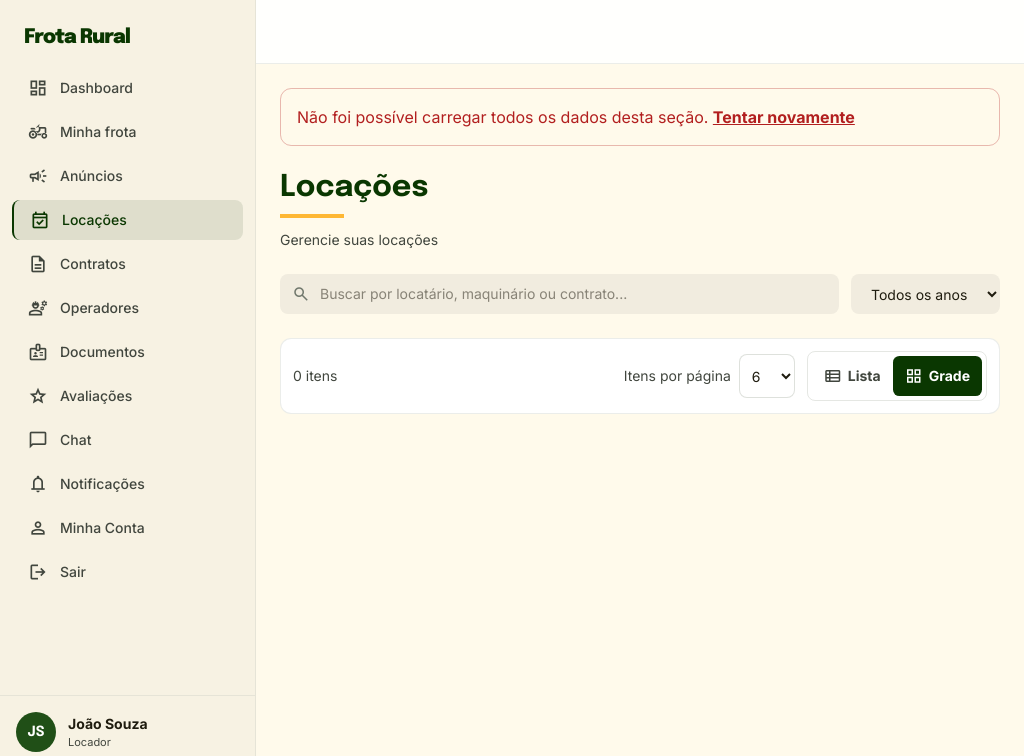
it: offers a retry when a section fails to load
Expected: the message "Não foi possível carregar todos os dados desta seção. Tentar novamente" is shown, [280,88,1000,146]
Click the button "Tentar novamente" at (784, 117), box [713,105,855,129]
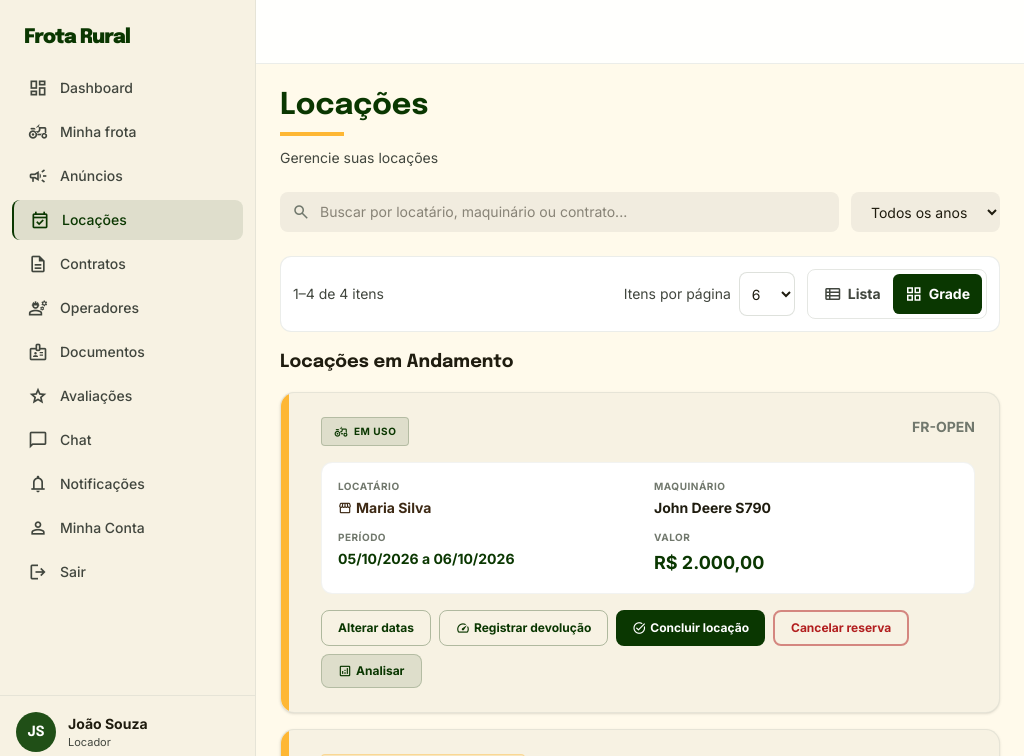
Now the text "Maria Silva" is shown, box [338,499,432,516]
